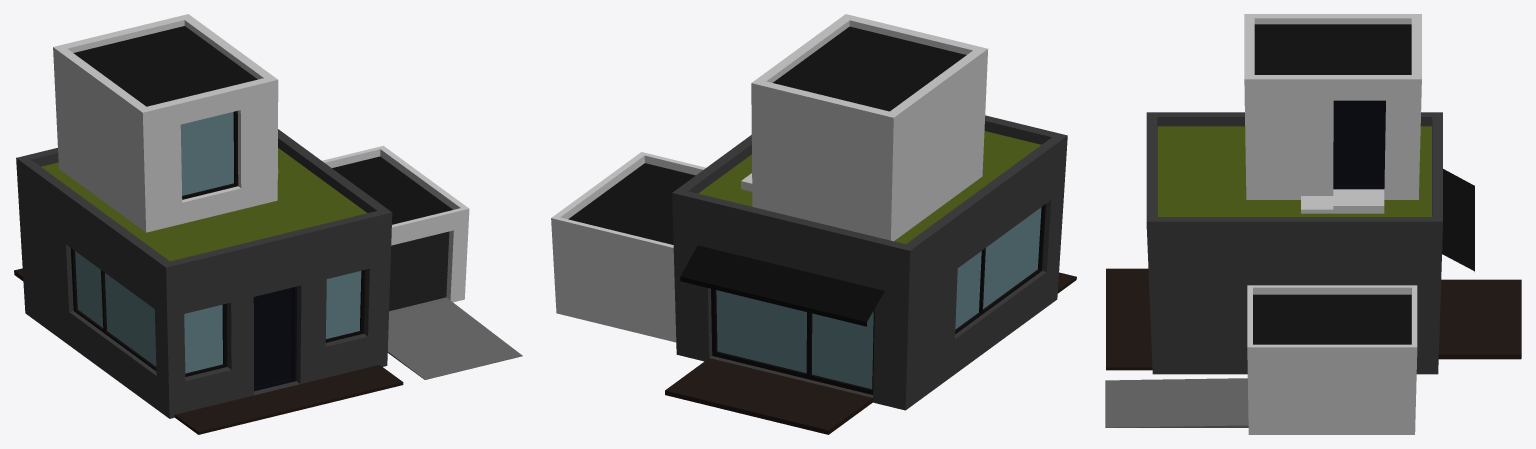
The model's file is BuildingResident4.fbx.
3 renders of one model, left to right at view 1: azimuth 30°, elevation 25°; view 2: azimuth 150°, elevation 25°; view 3: azimuth 270°, elevation 25°, orthographic. The views are drawn at different scales.
Parts seen in each view (by area): view 1: BuildingResident4; view 2: BuildingResident4; view 3: BuildingResident4.
Boxes of the visible parts, x1,y1,x2,y2 form: BuildingResident4: [14, 14, 522, 434]; BuildingResident4: [551, 14, 1076, 434]; BuildingResident4: [1105, 14, 1521, 434].
Bounding box in the file's own units: 22.2 × 16.01 × 22.85.
